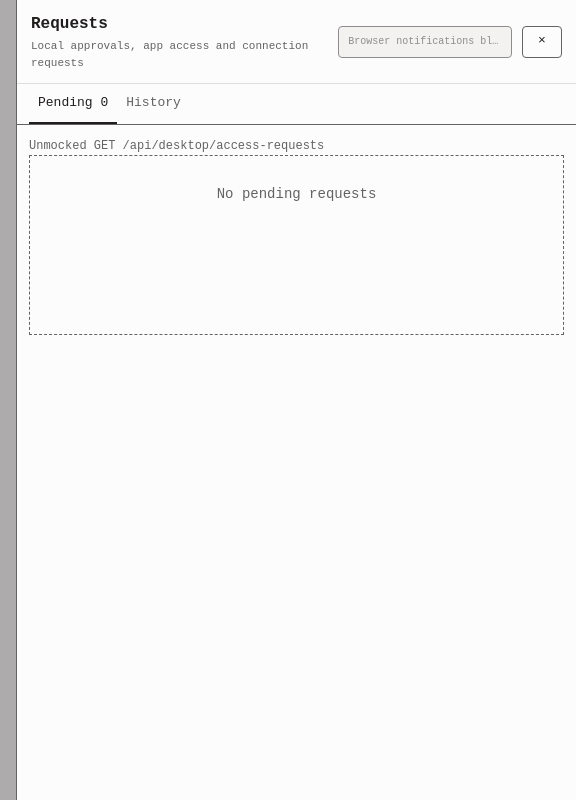
Scenario: clear history button is disabled when there is no history
Expected: the text "No pending requests" is shown, [29,155,564,335]
Click the button "History": click(154, 104) [117,84,190,124]
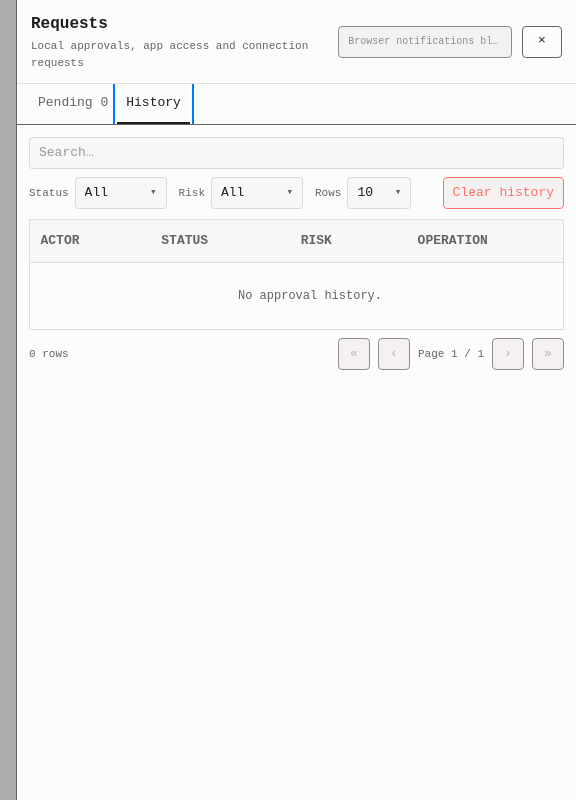
Expected: the button "Clear history" is disabled, [443,177,564,209]
